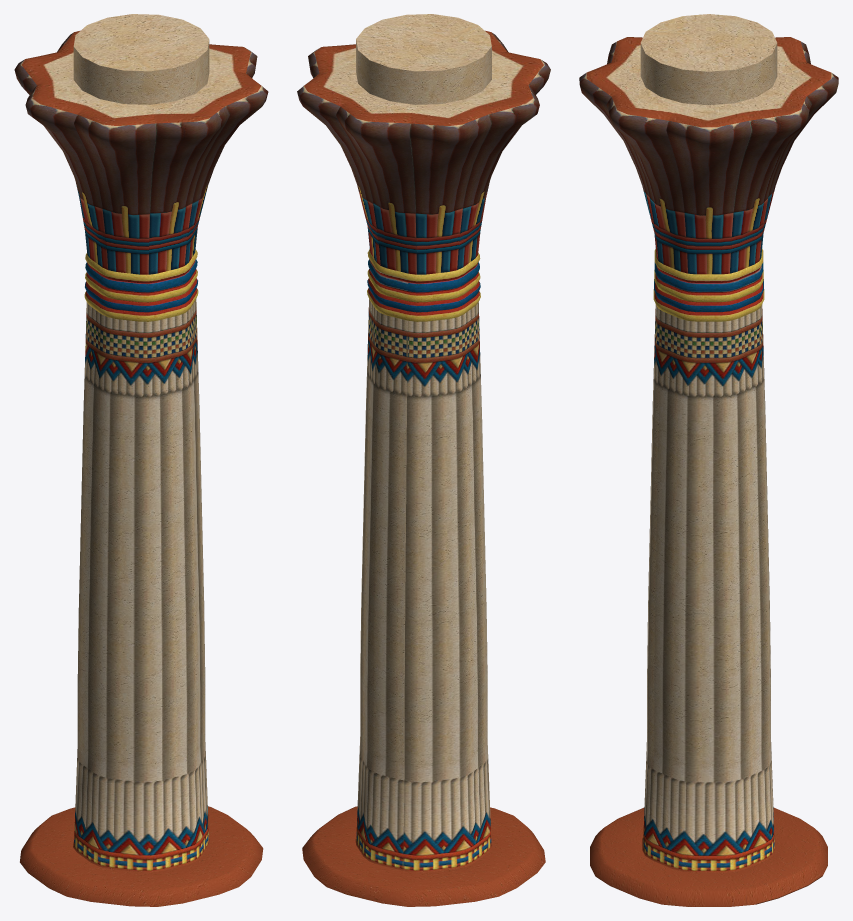
Rendered from column 3.FBX.
3 views of the same model, side by side, from view 1: azimuth 30°, elevation 25°; view 2: azimuth 150°, elevation 25°; view 3: azimuth 270°, elevation 25° (orthographic).
Parts seen in each view (by area): view 1: column 3; view 2: column 3; view 3: column 3.
Boxes of the visible parts, <box> form: column 3: <box>14,14,268,906</box>; column 3: <box>297,14,550,906</box>; column 3: <box>579,14,838,906</box>.
Bounding box in the file's own units: 2063 × 7154 × 2063.
1 material, 1 textured.
